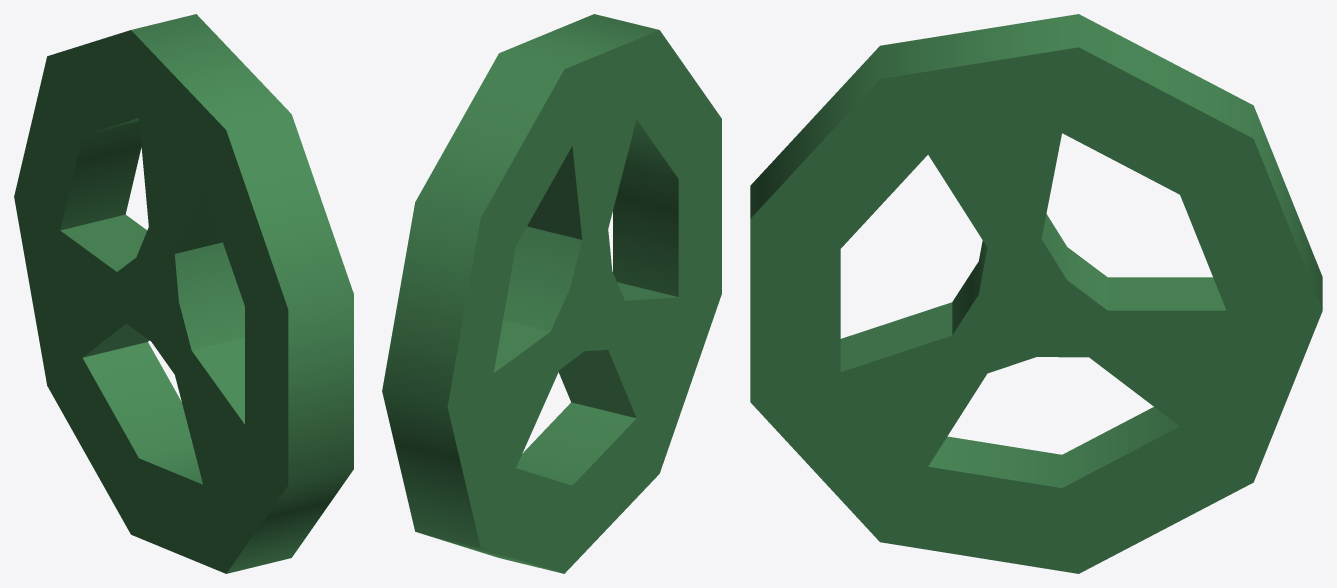
File: StrollerWheel.DAE
The picture shows the model from 3 angles, left to right: view 1: azimuth 30°, elevation 25°; view 2: azimuth 150°, elevation 25°; view 3: azimuth 270°, elevation 25°; orthographic projection. The views are drawn at different scales.
Visible parts, largest first — view 1: wheel03; view 2: wheel03; view 3: wheel03.
Part boxes in pixels (left/top/right/bottom): wheel03: left=14, top=14, right=353, bottom=573; wheel03: left=382, top=14, right=721, bottom=573; wheel03: left=750, top=14, right=1322, bottom=573.
Size of the model in its own units: 0.0577 by 0.4253 by 0.4191.
